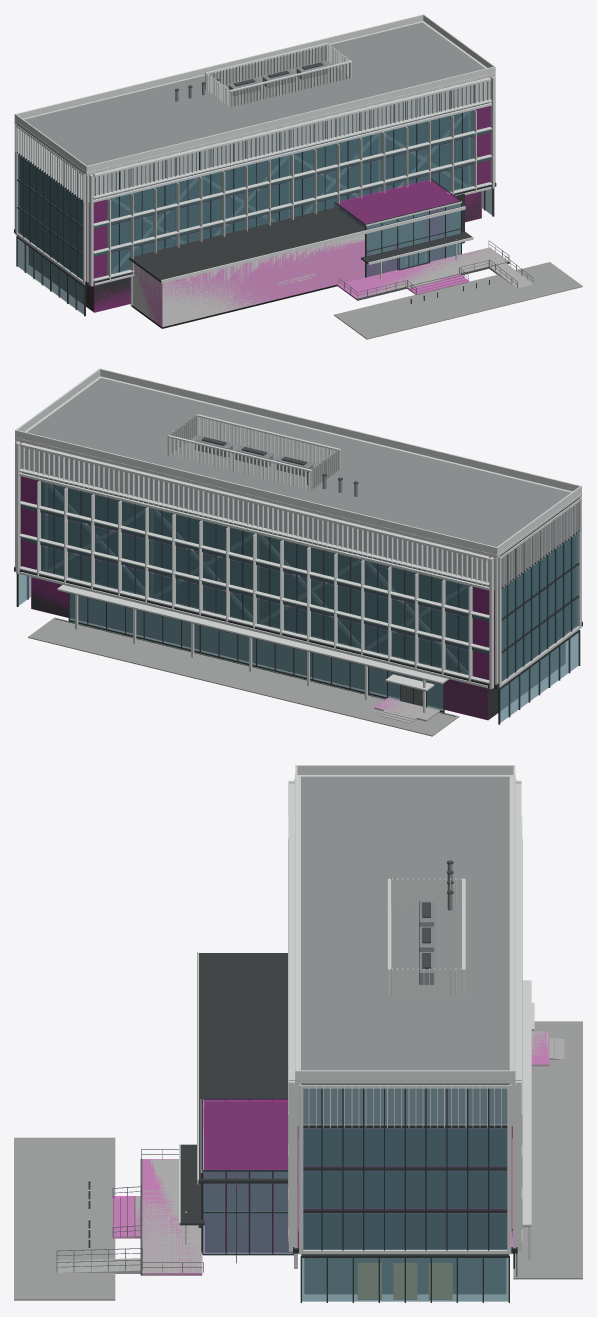
File: Lab_Building.fbx
3 renders of one model, top to bottom at view 1: azimuth 30°, elevation 25°; view 2: azimuth 150°, elevation 25°; view 3: azimuth 270°, elevation 25°, orthographic. The views are drawn at different scales.
Parts seen in each view (by area): view 1: Main_Roof_Membrane, EXP_04_Glass, EXP_03_Facade, Front_Brick_Pavilion, Front_Entrance_Approach_Paving, Low_Podium_Roof, EXP_05_Louvers, Front_Glass_Entrance, Top_Front_Fritted_Glass, COL_Brick_Pavilion, EXP_COL_Brick_Pavilion, EXP_06_Entrance (+31 smaller); view 2: EXP_03_Facade, Main_Roof_Membrane, EXP_04_Glass, Lower_Glass_Commons, EXP_05_Louvers, EXP_09_Site_Interface, Top_Rear_Fritted_Glass, Courtyard_Linear_Paving, EXP_07_Rooftop, Roof_Parapet_Front, Roof_Parapet_Rear, Upper_Roof_Cap (+36 smaller); view 3: Main_Roof_Membrane, EXP_03_Facade, Front_Entrance_Approach_Paving, Low_Podium_Roof, Courtyard_Linear_Paving, Front_Glass_Entrance, Top_Right_Fritted_Glass, EXP_06_Entrance, COL_Glass_Entrance, EXP_COL_Glass_Entrance, Main_Entrance_Terrace, Lower_Glass_Commons (+72 smaller).
Boxes of the visible parts, left/top/right/bottom form: Main_Roof_Membrane: left=24, top=22, right=485, bottom=165; EXP_04_Glass: left=109, top=110, right=473, bottom=273; EXP_03_Facade: left=15, top=76, right=494, bottom=314; Front_Brick_Pavilion: left=132, top=234, right=364, bottom=327; Front_Entrance_Approach_Paving: left=334, top=262, right=582, bottom=339; Low_Podium_Roof: left=129, top=204, right=463, bottom=282; EXP_05_Louvers: left=15, top=81, right=490, bottom=199; Front_Glass_Entrance: left=339, top=181, right=458, bottom=276; Top_Front_Fritted_Glass: left=88, top=77, right=490, bottom=201; COL_Brick_Pavilion: left=141, top=241, right=364, bottom=325; EXP_COL_Brick_Pavilion: left=141, top=241, right=364, bottom=325; EXP_06_Entrance: left=277, top=190, right=473, bottom=285; EXP_03_Facade: left=15, top=441, right=579, bottom=724; Main_Roof_Membrane: left=27, top=378, right=570, bottom=546; EXP_04_Glass: left=41, top=481, right=470, bottom=674; Lower_Glass_Commons: left=31, top=577, right=565, bottom=719; EXP_05_Louvers: left=20, top=443, right=581, bottom=589; EXP_09_Site_Interface: left=28, top=617, right=459, bottom=736; Top_Rear_Fritted_Glass: left=20, top=442, right=494, bottom=589; Courtyard_Linear_Paving: left=28, top=635, right=458, bottom=736; EXP_07_Rooftop: left=15, top=369, right=581, bottom=554; Roof_Parapet_Front: left=99, top=368, right=580, bottom=491; Roof_Parapet_Rear: left=15, top=430, right=496, bottom=554; Upper_Roof_Cap: left=15, top=376, right=581, bottom=558; Main_Roof_Membrane: left=301, top=776, right=509, bottom=1070; EXP_03_Facade: left=288, top=781, right=531, bottom=1302; Front_Entrance_Approach_Paving: left=14, top=1137, right=115, bottom=1300; Low_Podium_Roof: left=198, top=953, right=297, bottom=1183; Courtyard_Linear_Paving: left=513, top=1021, right=582, bottom=1279; Front_Glass_Entrance: left=205, top=1101, right=288, bottom=1251; Top_Right_Fritted_Glass: left=297, top=1085, right=512, bottom=1126; EXP_06_Entrance: left=179, top=1098, right=292, bottom=1253; COL_Glass_Entrance: left=203, top=1100, right=287, bottom=1252; EXP_COL_Glass_Entrance: left=203, top=1100, right=287, bottom=1169; Main_Entrance_Terrace: left=142, top=1159, right=202, bottom=1275; Lower_Glass_Commons: left=304, top=1258, right=505, bottom=1293.
Bounding box in the file's own units: 6482 × 2451 × 5059.
